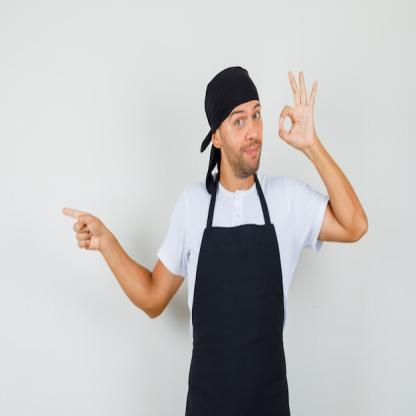ok: (276, 67, 320, 153)
